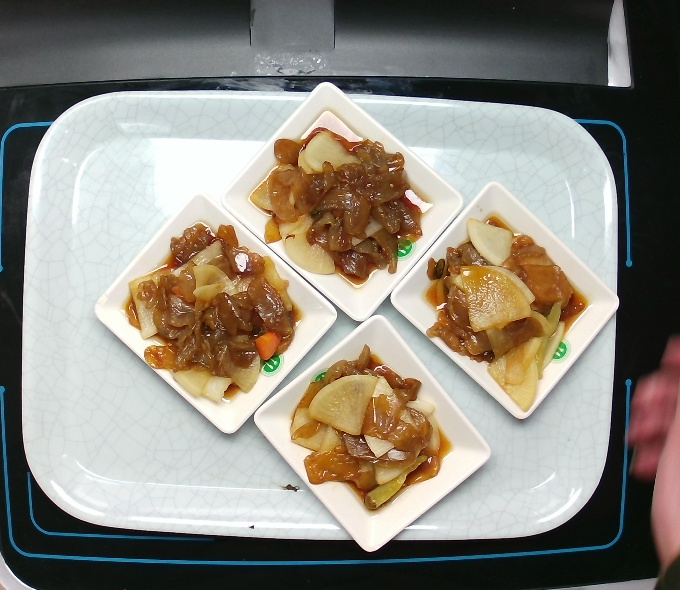wcq-HaiZheTou: (419, 213, 589, 417), (122, 216, 301, 408), (246, 121, 430, 288), (286, 337, 454, 517)
